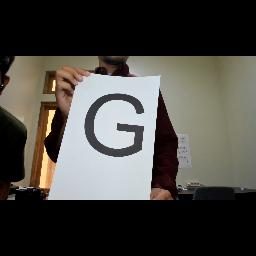g: (83, 92, 151, 160)
